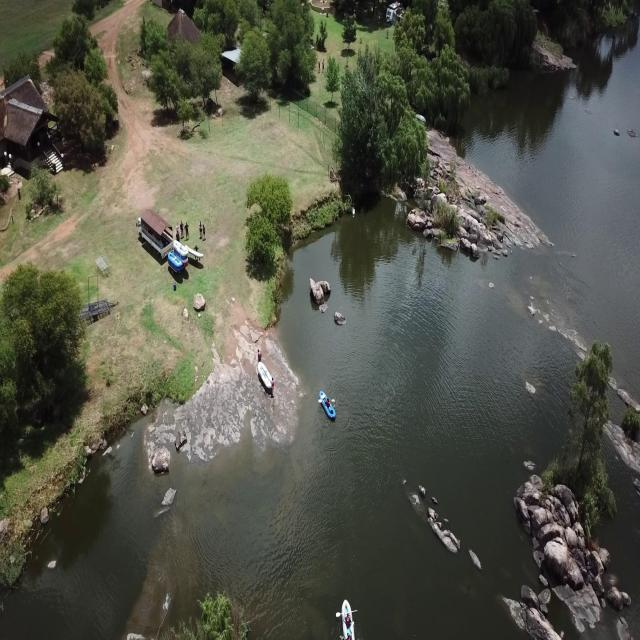kayak: (336, 598, 358, 635), (318, 388, 338, 424)
